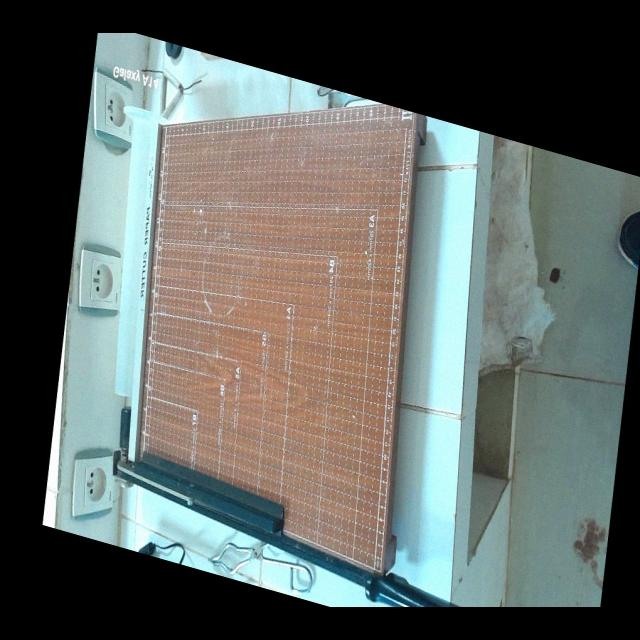TLC Cutter: (100, 39, 556, 607)
